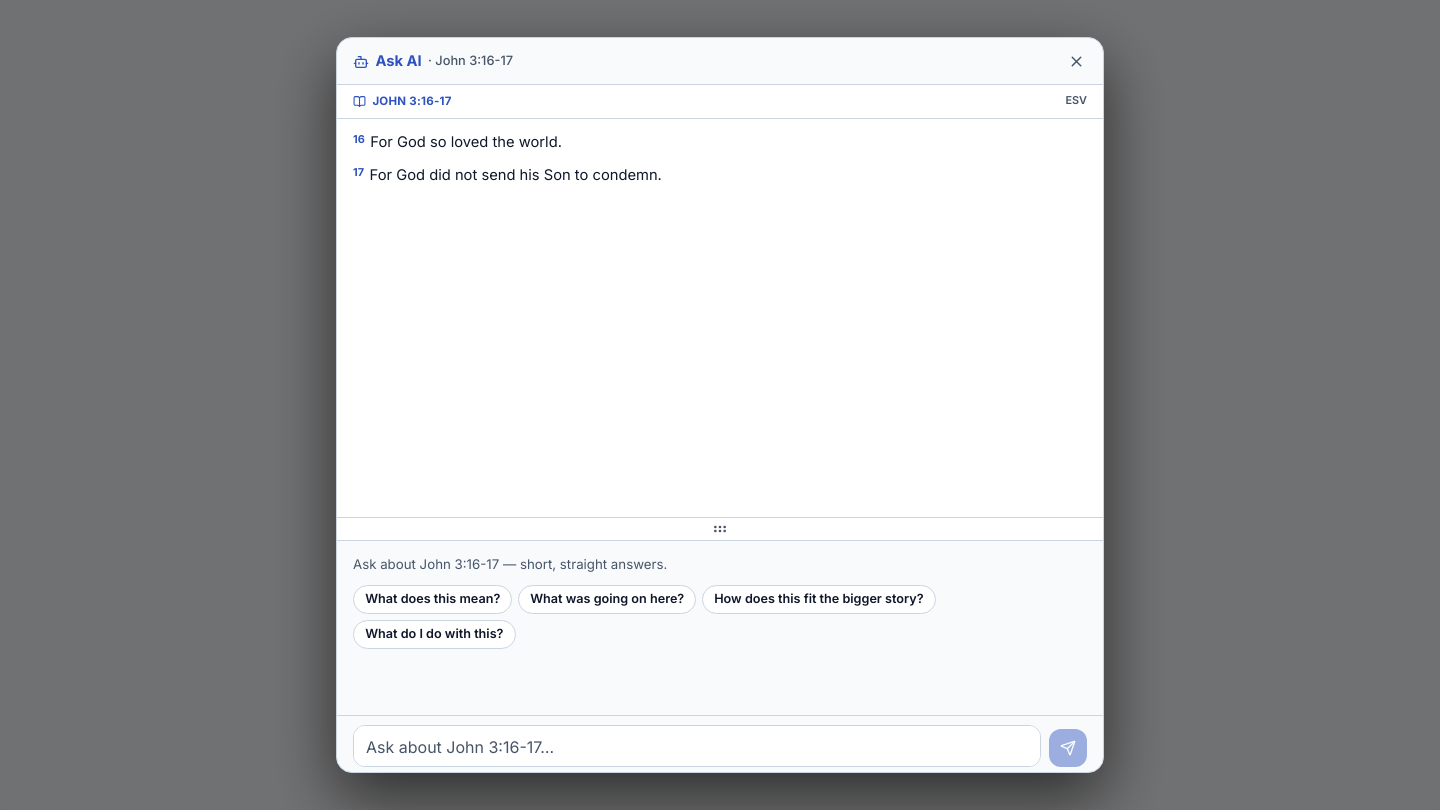
AskAiPanel › sends the question to openrouter-proxy on a free model with the passage as context
Step 1. Type "What does this mean?" into the text box named "ask a question" → (697, 746), box [353,725,1041,767]
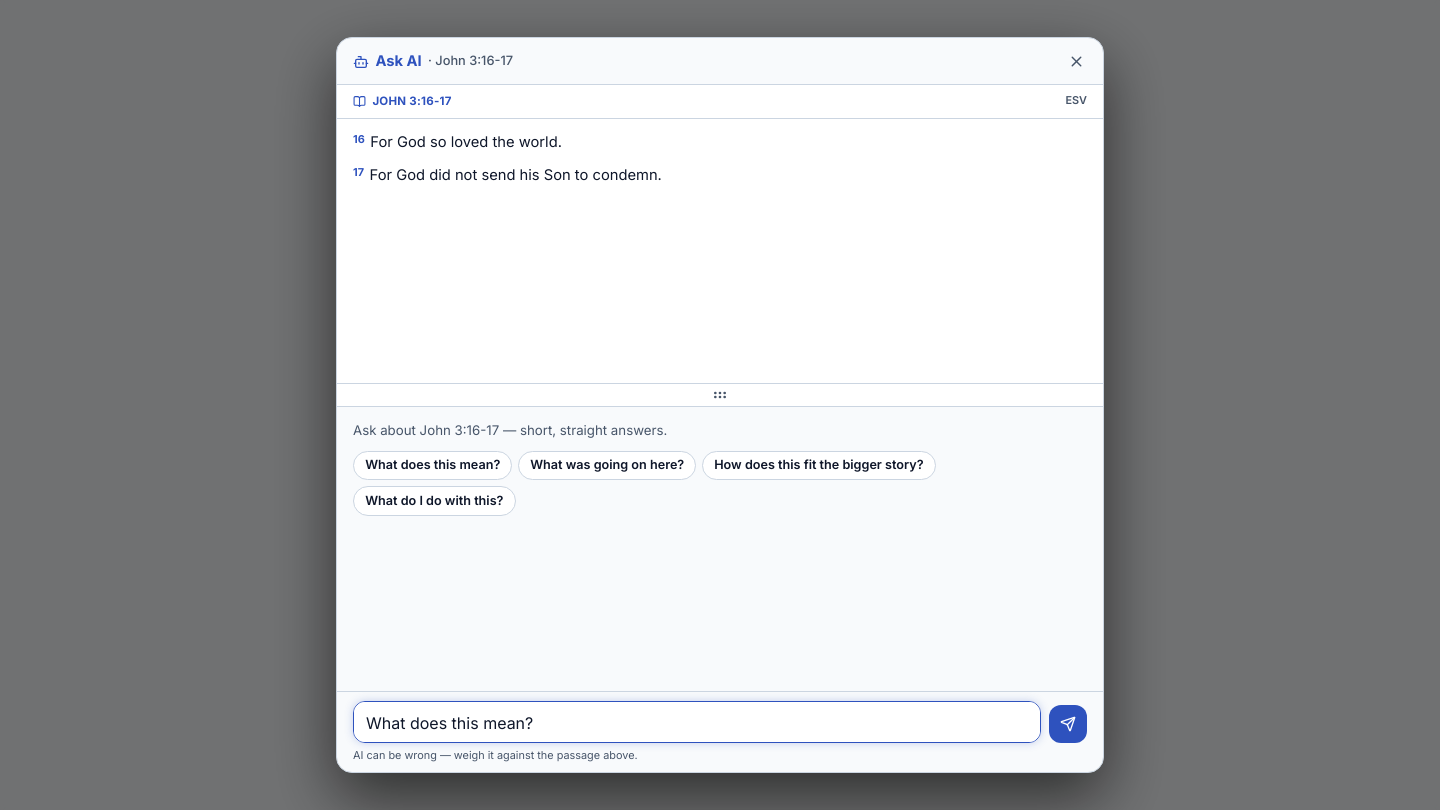
Step 2. Click the button named "send question" → (1068, 724), box [1049,705,1087,743]
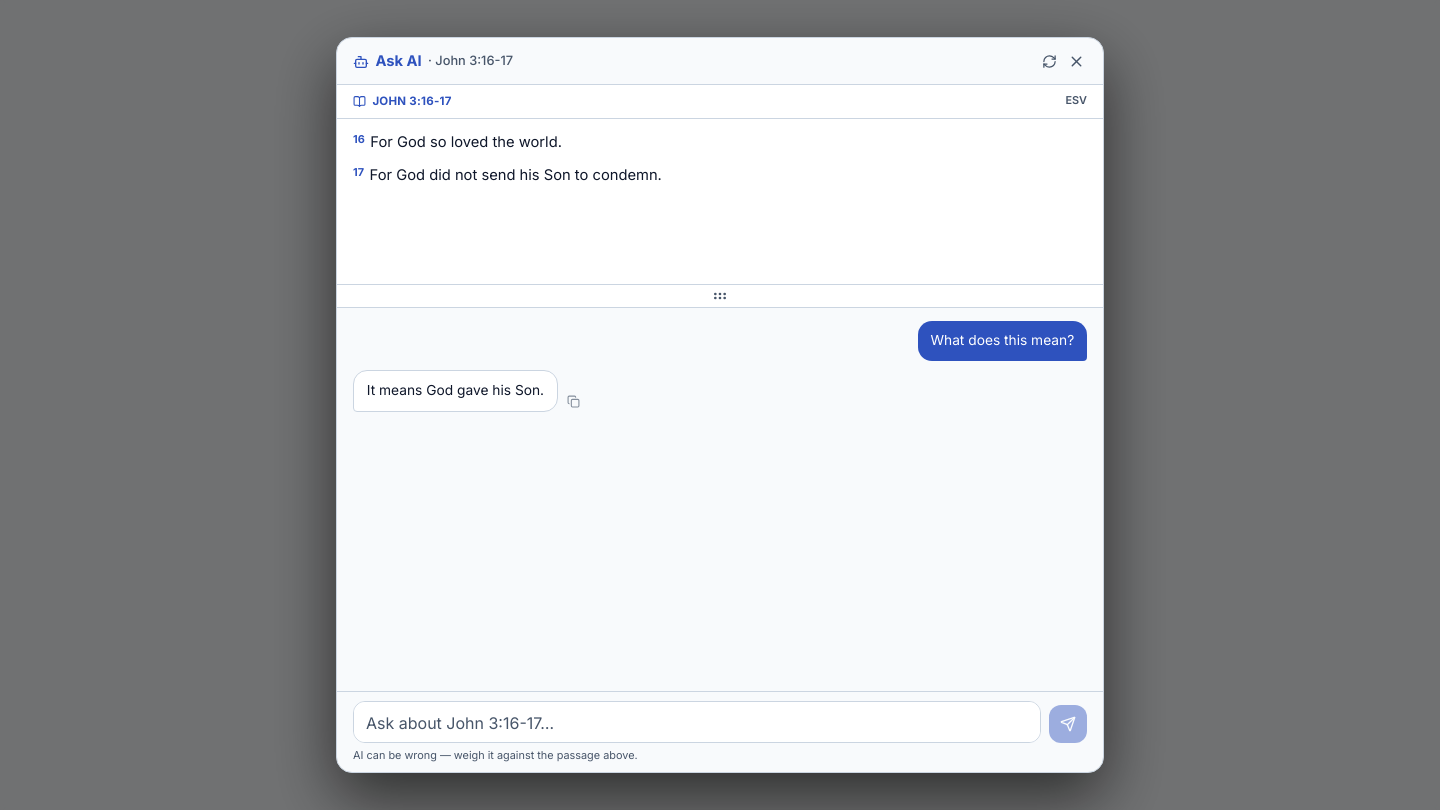
Now the text "It means God gave his Son." is shown, box [367,379,544,402]
